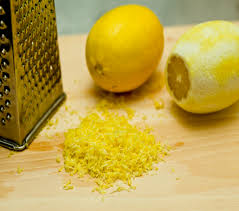lemon: (84, 4, 171, 102)
